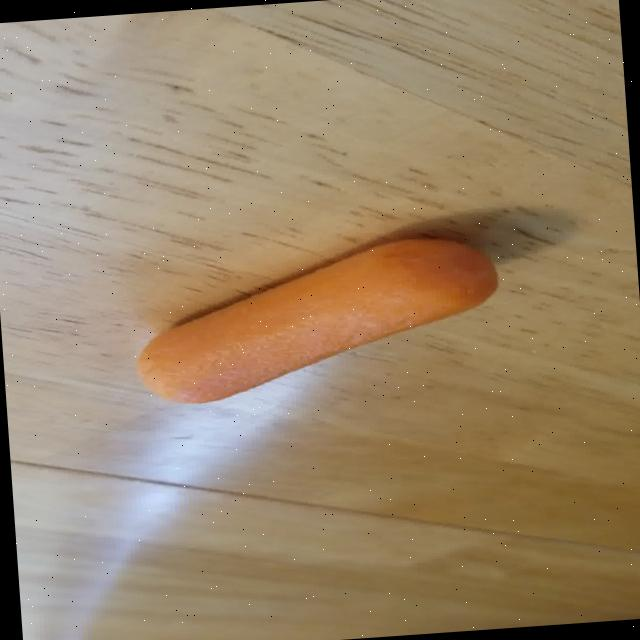carrot: (136, 237, 497, 402)
